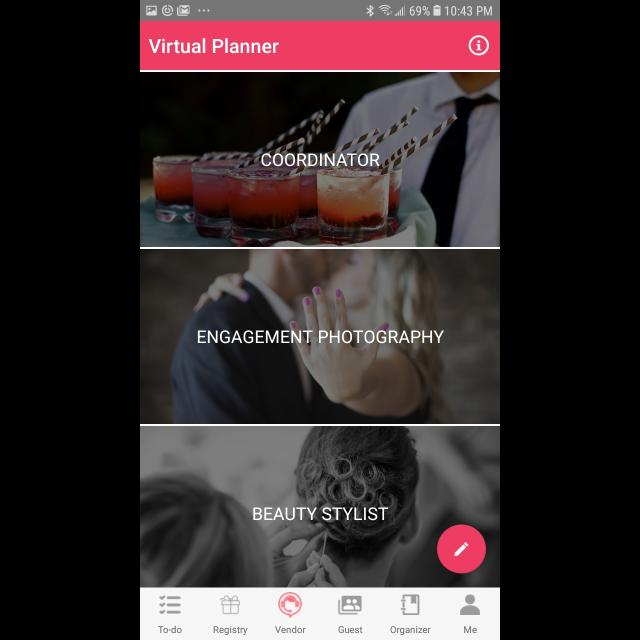icon: (436, 524, 486, 574), (460, 594, 480, 616), (400, 594, 420, 616), (338, 596, 362, 614), (158, 596, 182, 614), (468, 36, 489, 56), (220, 596, 240, 614)
image: (140, 72, 500, 248), (140, 248, 500, 424), (140, 427, 500, 588), (278, 592, 302, 618)
text: (198, 330, 444, 344), (148, 38, 280, 54), (253, 507, 389, 521), (262, 154, 380, 166), (214, 625, 248, 635), (390, 626, 430, 634), (276, 625, 306, 633), (158, 625, 182, 633), (338, 626, 362, 634), (464, 626, 476, 634)
uppertaskbar: (140, 1, 500, 22)
